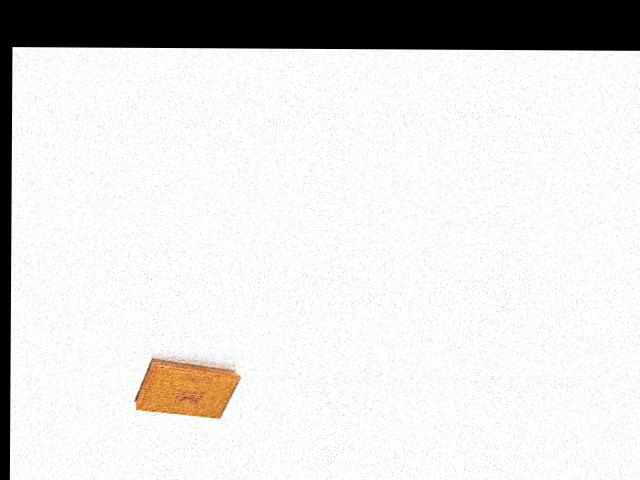chocolate: (132, 349, 240, 422)
